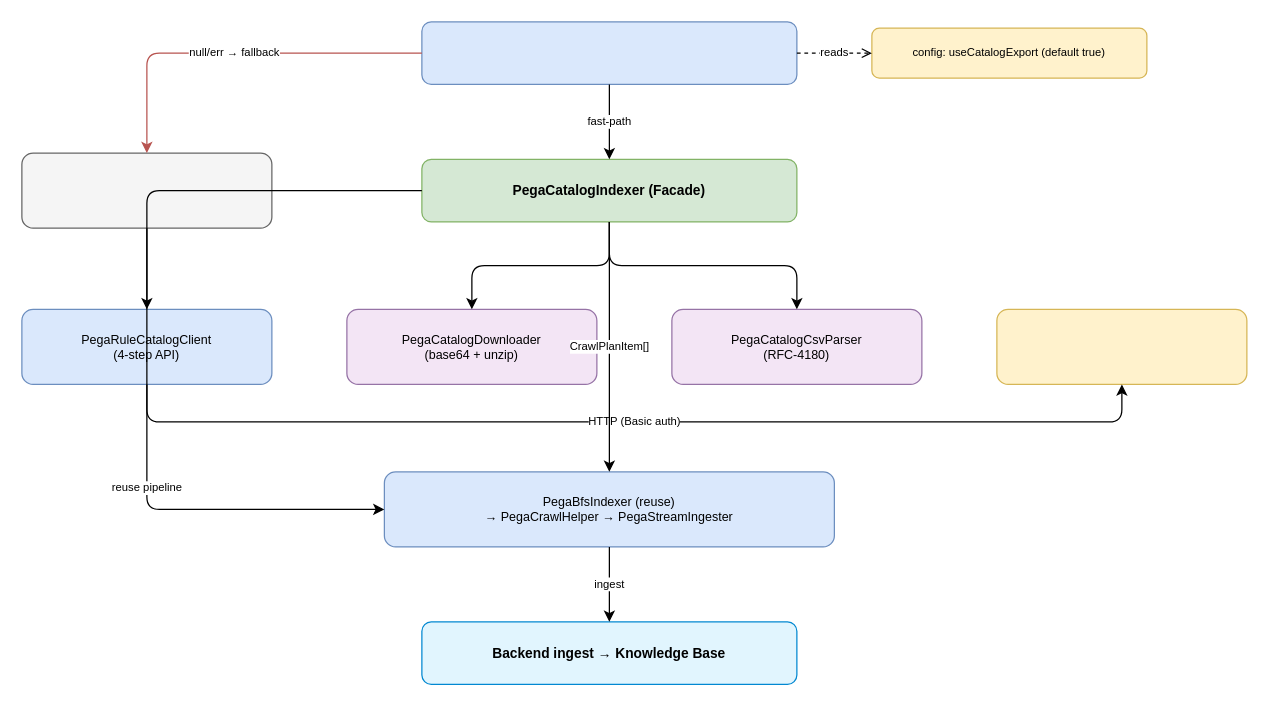
Image size: 1269x706. Some labels were removed from this diagram. The centre of each missing label's shape, as x and y in pixels:
IndexingService.runPegaProjectIndexer(): (609,52)
Pega CodeIntelligence API (host): (1121,346)
PegaProjectIndexer (fallback BFS crawl): (146,190)
